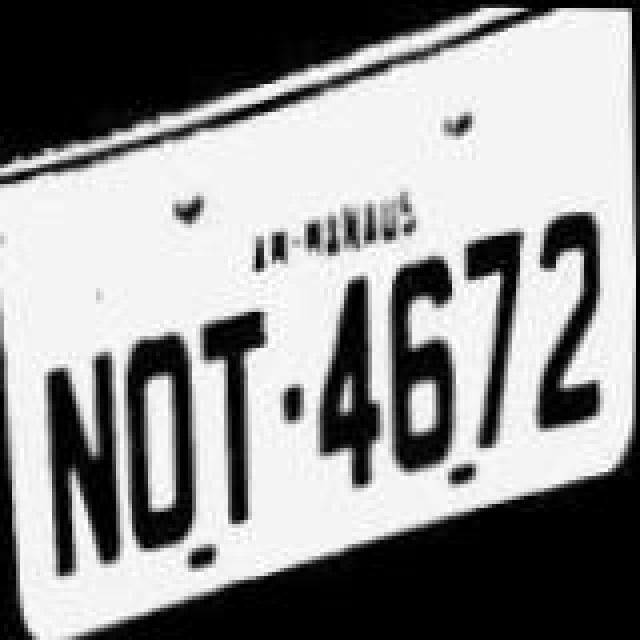2: (520, 178, 608, 442)
4: (310, 252, 390, 512)
6: (378, 232, 466, 488)
7: (450, 192, 534, 456)
N: (30, 332, 126, 596)
O: (110, 308, 206, 564)
T: (192, 284, 288, 540)
